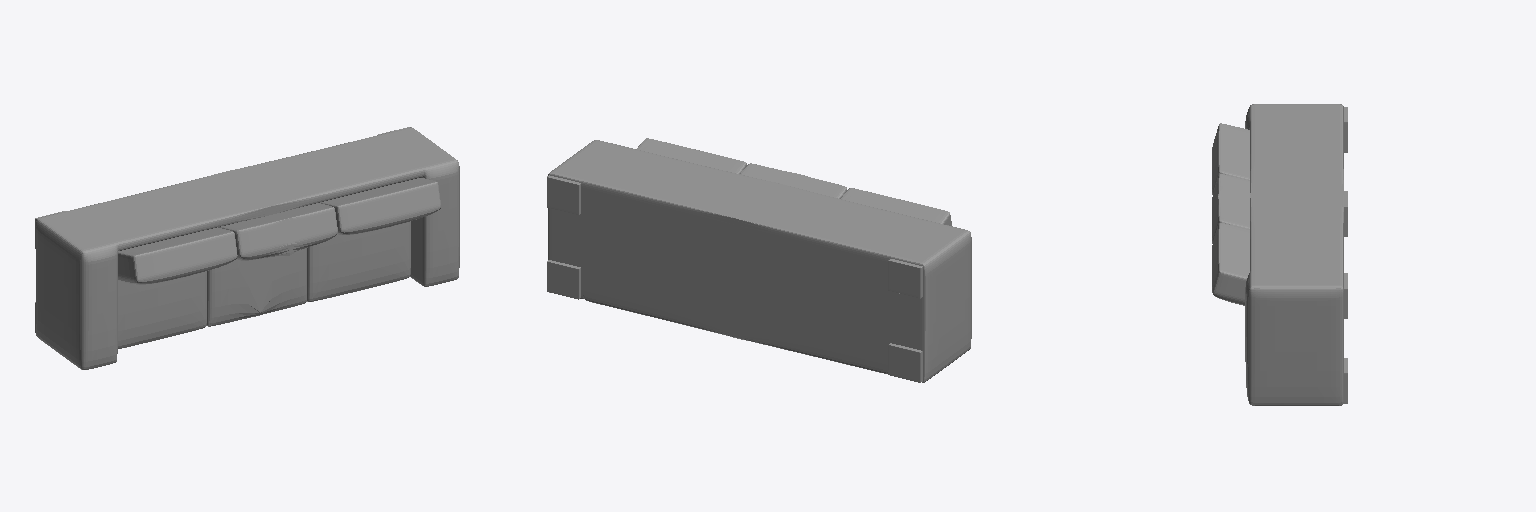
File: rossini.obj
3 views of the same model, side by side, from view 1: azimuth 30°, elevation 25°; view 2: azimuth 150°, elevation 25°; view 3: azimuth 270°, elevation 25° (orthographic).
Parts seen in each view (by area): view 1: rossini; view 2: rossini; view 3: rossini.
Part boxes in pixels (bbox=[...]): rossini: bbox=[35, 127, 459, 369]; rossini: bbox=[547, 138, 971, 382]; rossini: bbox=[1212, 104, 1347, 405].
Size of the model in its own units: 7.19 by 2.19 by 2.24.